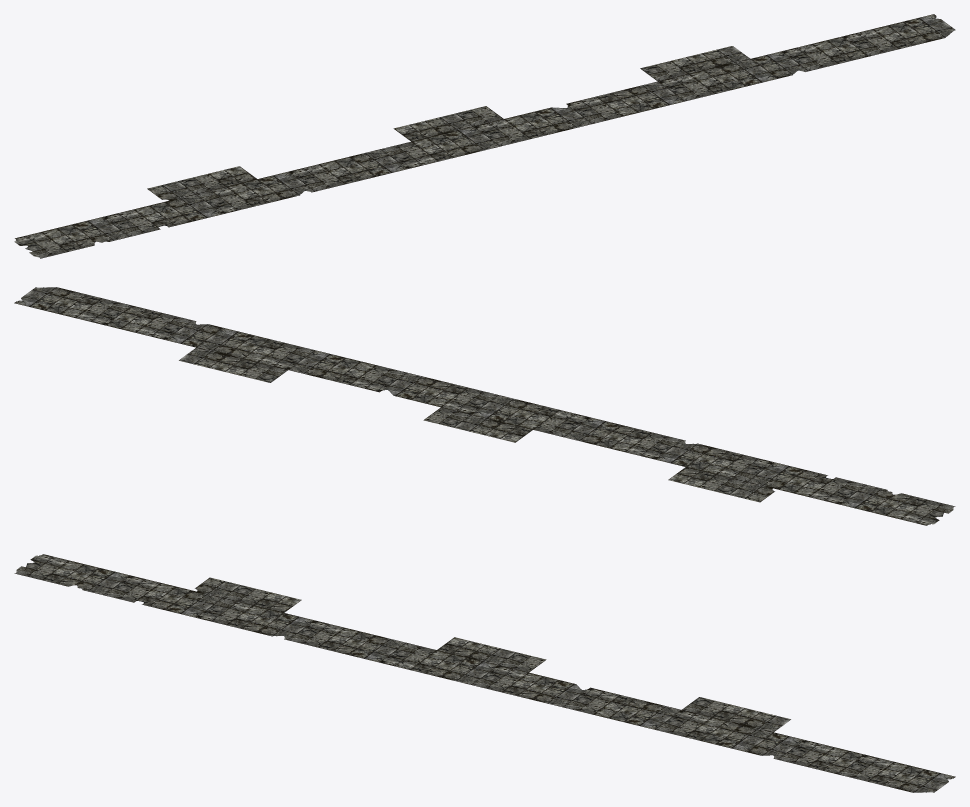
Rendered from Tile_road.FBX.
3 views of the same model, one above another, from view 1: azimuth 30°, elevation 25°; view 2: azimuth 150°, elevation 25°; view 3: azimuth 330°, elevation 25° (orthographic).
Visible parts, largest first — view 1: Plane001; view 2: Plane001; view 3: Plane001.
Part boxes in pixels (left/top/right/bottom): Plane001: left=14, top=14, right=955, bottom=258; Plane001: left=14, top=287, right=955, bottom=525; Plane001: left=14, top=554, right=955, bottom=792.
Bounding box in the file's own units: 29.84 × 7.16e-16 × 2.53.
